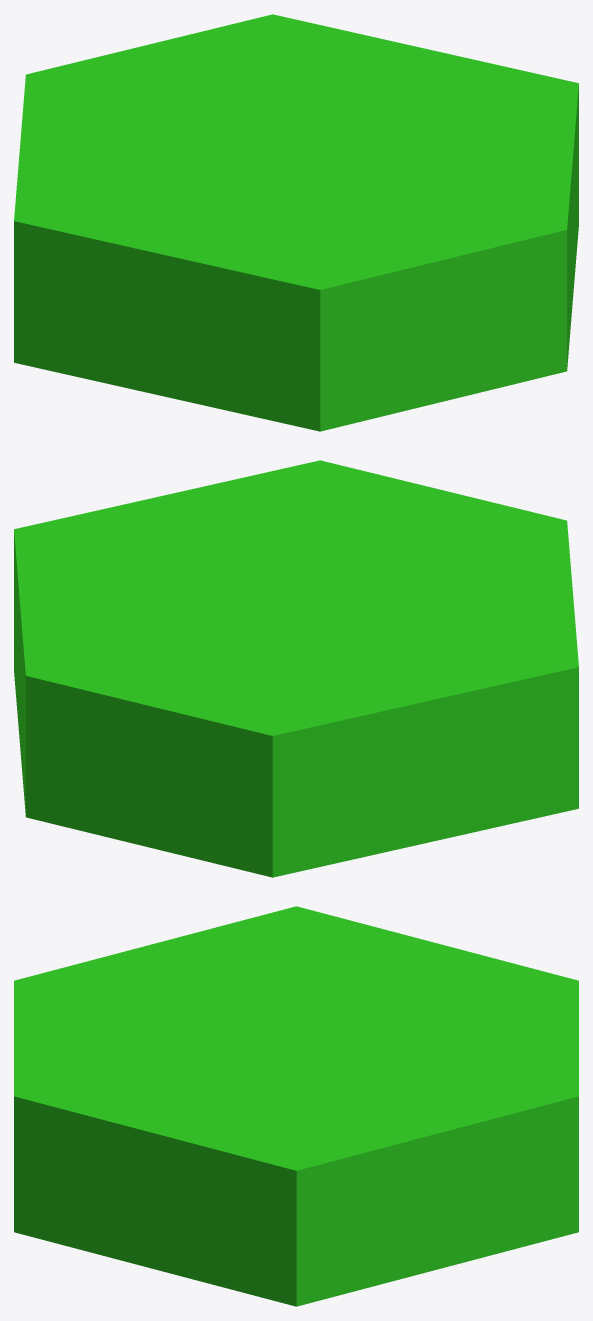
File: NormalContent.fbx
3 renders of one model, top to bottom at view 1: azimuth 30°, elevation 25°; view 2: azimuth 150°, elevation 25°; view 3: azimuth 270°, elevation 25°, orthographic. The views are drawn at different scales.
Visible parts, largest first — view 1: Model; view 2: Model; view 3: Model.
Part boxes in pixels (<box>): Model: <box>14,14,578,431</box>; Model: <box>14,460,578,877</box>; Model: <box>14,906,578,1306</box>.
Size of what is drawn, in the model's own units: 1.29 by 0.308 by 1.16.
